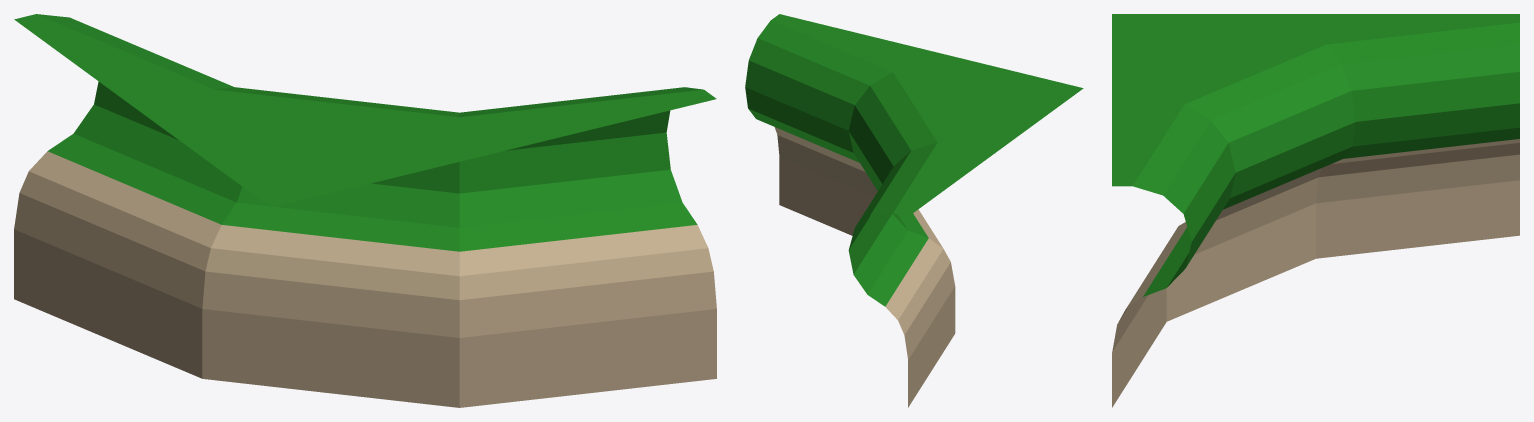
File: Escarpment_Terrain_Corner_Inner_2x2_Top.obj
3 renders of one model, left to right at view 1: azimuth 30°, elevation 25°; view 2: azimuth 150°, elevation 25°; view 3: azimuth 270°, elevation 25°, orthographic. The views are drawn at different scales.
Visible parts, largest first — view 1: object1; view 2: object1; view 3: object1.
Boxes of the visible parts, left/top/right/bottom form: object1: left=14, top=14, right=716, bottom=407; object1: left=745, top=14, right=1083, bottom=407; object1: left=1112, top=14, right=1519, bottom=407.
Size of the model in its own units: 2 by 1.2 by 2.
